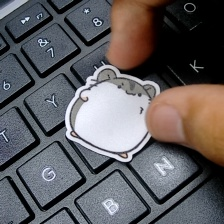mouse: (63, 54, 162, 165)
